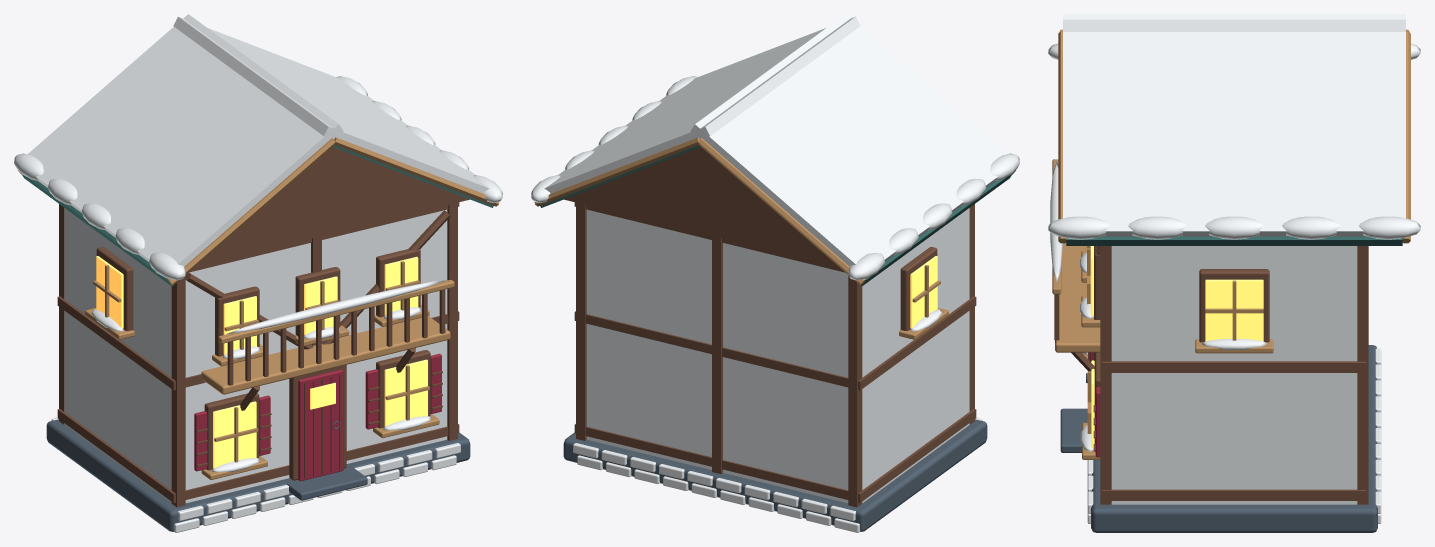
Rendered from alpine-hut.glb.
3 views of the same model, side by side, from view 1: azimuth 30°, elevation 25°; view 2: azimuth 150°, elevation 25°; view 3: azimuth 270°, elevation 25° (orthographic). The views are drawn at different scales.
Parts seen in each view (by area): view 1: mountain-guesthouse-snow, mountain-guesthouse-wood, mountain-guesthouse-oak, mountain-guesthouse-amber, mountain-guesthouse-iron, mountain-guesthouse-berry, mountain-guesthouse-pine; view 2: mountain-guesthouse-snow, mountain-guesthouse-wood, mountain-guesthouse-iron, mountain-guesthouse-oak, mountain-guesthouse-pine, mountain-guesthouse-amber; view 3: mountain-guesthouse-snow, mountain-guesthouse-wood, mountain-guesthouse-iron, mountain-guesthouse-oak, mountain-guesthouse-amber, mountain-guesthouse-pine, mountain-guesthouse-berry.
Boxes of the visible parts, bbox=[...] form: mountain-guesthouse-snow: bbox=[14, 14, 502, 532]; mountain-guesthouse-wood: bbox=[57, 147, 469, 507]; mountain-guesthouse-oak: bbox=[18, 137, 499, 479]; mountain-guesthouse-amber: bbox=[96, 256, 427, 468]; mountain-guesthouse-iron: bbox=[46, 419, 470, 531]; mountain-guesthouse-berry: bbox=[194, 353, 441, 481]; mountain-guesthouse-pine: bbox=[21, 145, 493, 285]; mountain-guesthouse-snow: bbox=[531, 14, 1019, 532]; mountain-guesthouse-wood: bbox=[564, 147, 976, 507]; mountain-guesthouse-iron: bbox=[563, 419, 987, 531]; mountain-guesthouse-oak: bbox=[534, 137, 1015, 339]; mountain-guesthouse-pine: bbox=[540, 145, 1012, 285]; mountain-guesthouse-amber: bbox=[910, 256, 937, 328]; mountain-guesthouse-snow: bbox=[1048, 14, 1420, 523]; mountain-guesthouse-wood: bbox=[1054, 246, 1368, 504]; mountain-guesthouse-iron: bbox=[1060, 345, 1377, 532]; mountain-guesthouse-oak: bbox=[1052, 29, 1410, 459]; mountain-guesthouse-amber: bbox=[1087, 246, 1263, 448]; mountain-guesthouse-pine: bbox=[1066, 236, 1402, 245]; mountain-guesthouse-berry: bbox=[1089, 352, 1100, 457].
Bounding box in the file's own units: 6.56 × 7.01 × 5.45.
